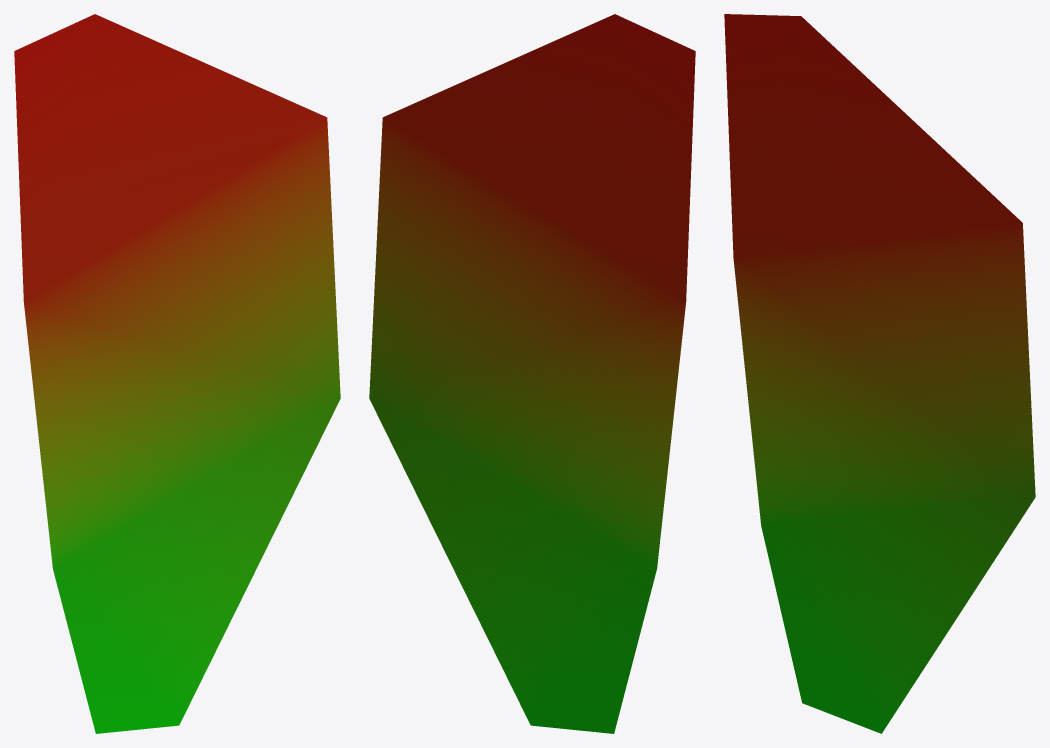
Rendered from Var6_LOD3.fbx.
3 renders of one model, left to right at view 1: azimuth 30°, elevation 25°; view 2: azimuth 150°, elevation 25°; view 3: azimuth 330°, elevation 25°, orthographic. The views are drawn at different scales.
Visible parts, largest first — view 1: _1025_Var6_LOD3; view 2: _1025_Var6_LOD3; view 3: _1025_Var6_LOD3.
Part boxes in pixels (box(x1,y1,x2,y2)): _1025_Var6_LOD3: box(14, 14, 340, 733); _1025_Var6_LOD3: box(369, 14, 695, 733); _1025_Var6_LOD3: box(724, 14, 1035, 733).
Bounding box in the file's own units: 39.4 × 84.44 × 4.05e-05.
